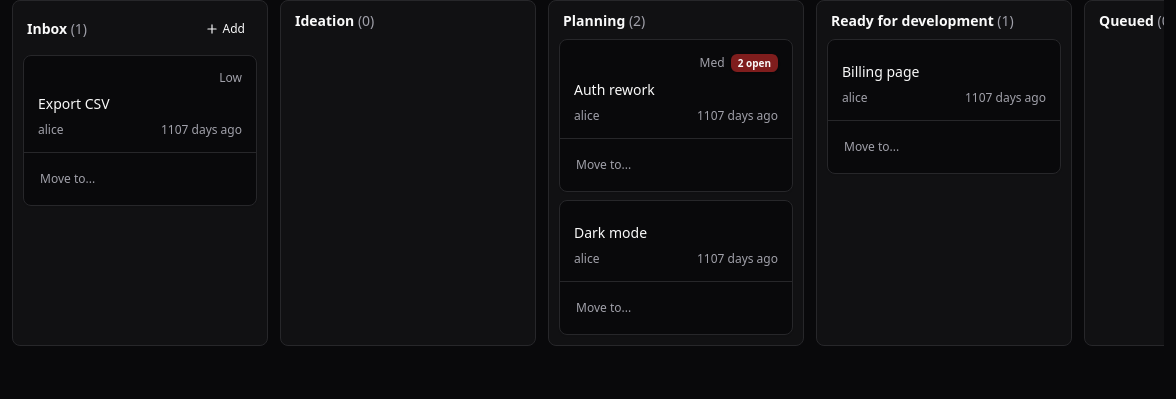
it: KanbanBoard keyboard menu › announces a failed move and keeps the board usable
The width and height of the screenshot is (1176, 399).
Click the 2nd button "Move to...".
click(676, 165)  # box x1=568 y1=143 x2=784 y2=187
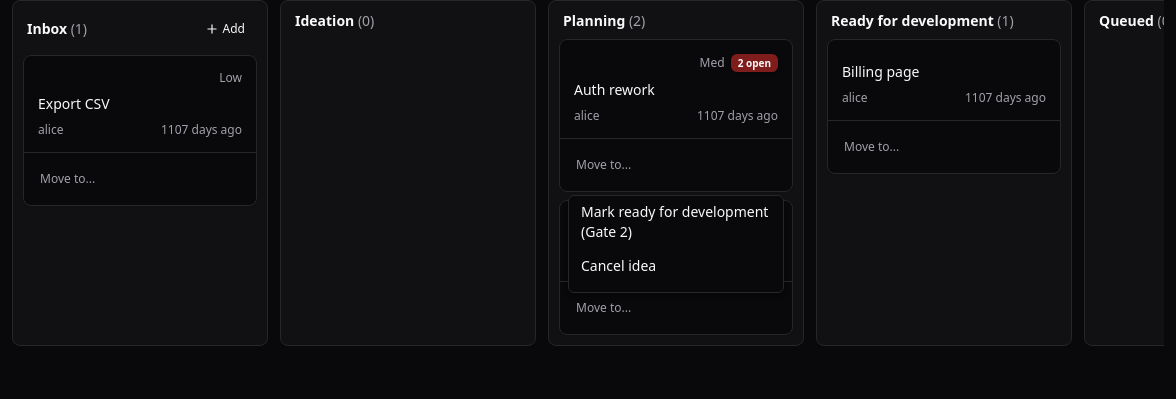
Click the menu item "Mark ready for development (Gate 2)".
click(676, 222)  # box x1=573 y1=200 x2=779 y2=244
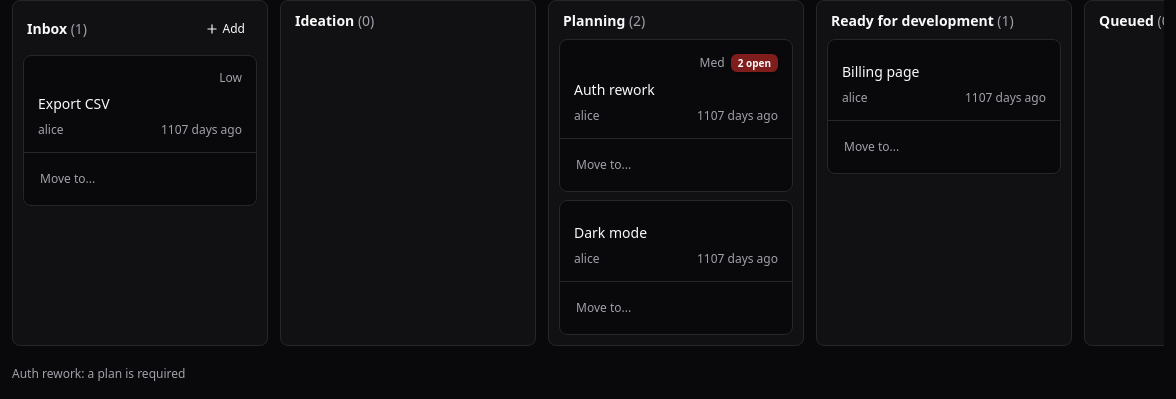
Check: the text "Auth rework: a plan is required" is shown, box x1=12 y1=365 x2=185 y2=382
